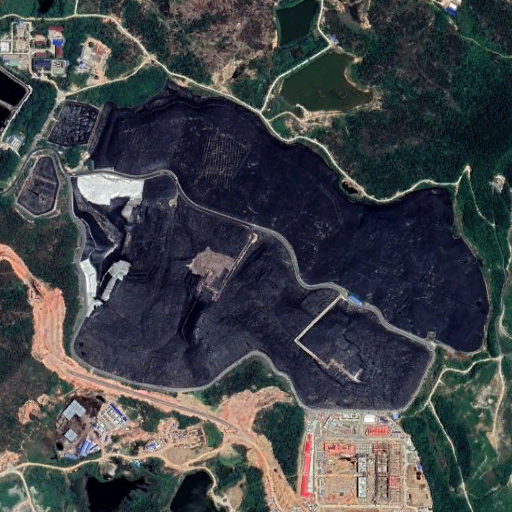lf: (75, 84, 495, 416)
